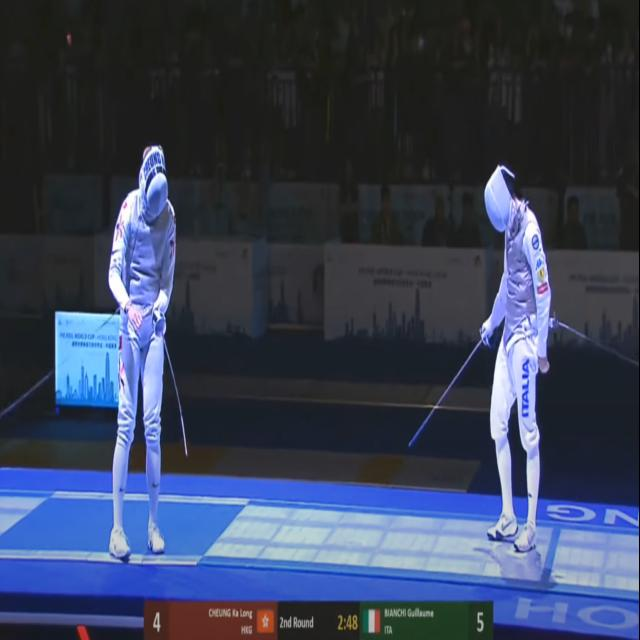fencer: (104, 141, 181, 568), (477, 171, 552, 561)
overlayLeft: (169, 599, 278, 640)
overlayRight: (360, 604, 468, 640)
scoreLeft: (145, 600, 168, 640)
scoreRight: (469, 599, 490, 640)
